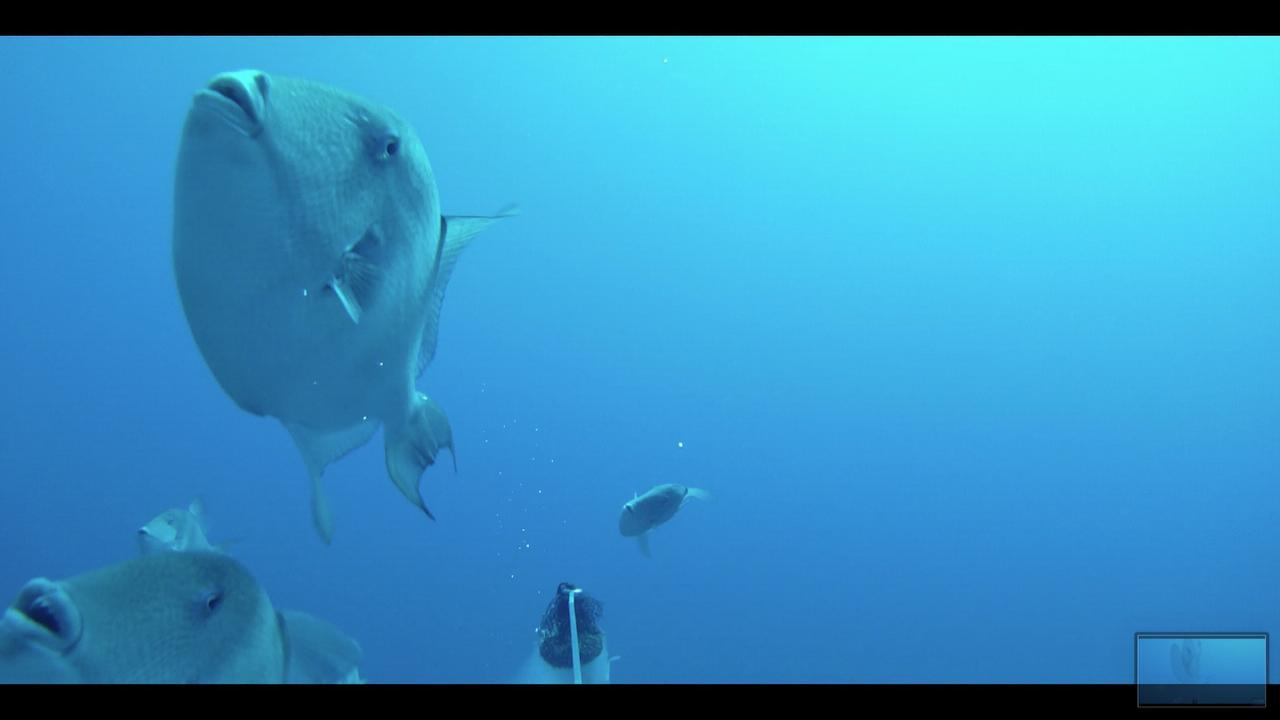balistes: (164, 68, 531, 540), (1, 546, 384, 683), (603, 470, 716, 560), (125, 492, 235, 558)
